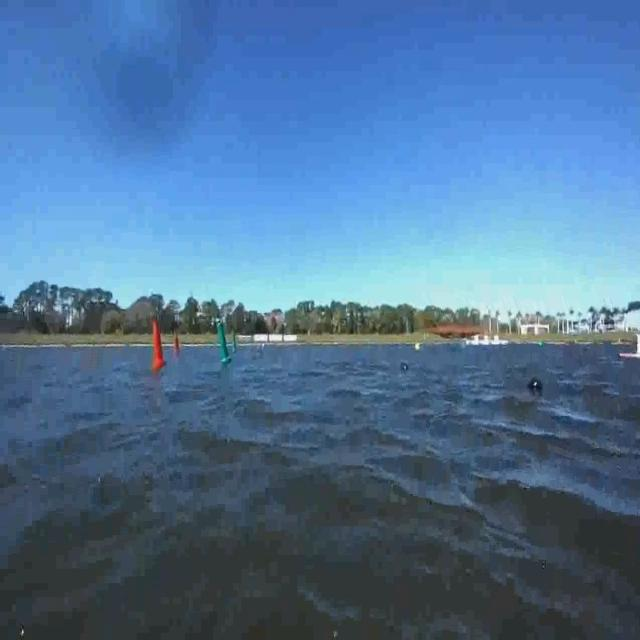black-buoy: (528, 378, 544, 397), (402, 362, 409, 372)
green-column-buoy: (216, 325, 232, 365), (234, 333, 240, 352)
red-column-buoy: (152, 320, 168, 369), (173, 335, 181, 355)
yellow-buoy: (414, 342, 422, 354)
